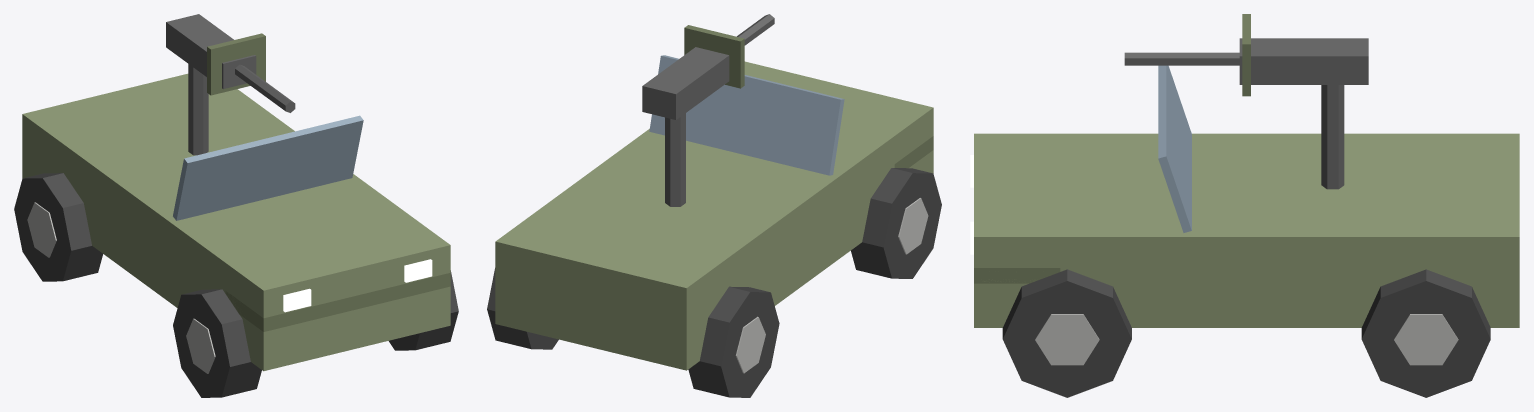
Rendered from jeep.glb.
3 views of the same model, side by side, from view 1: azimuth 30°, elevation 25°; view 2: azimuth 150°, elevation 25°; view 3: azimuth 270°, elevation 25° (orthographic). The views are drawn at different scales.
Visible parts, largest first — view 1: jeep; view 2: jeep; view 3: jeep.
Boxes of the visible parts, x1,y1,x2,y2 form: jeep: (14,14,458,397); jeep: (487,14,941,397); jeep: (970,14,1519,397).
Size of the model in its own units: 2.1 by 2.35 by 3.83.
